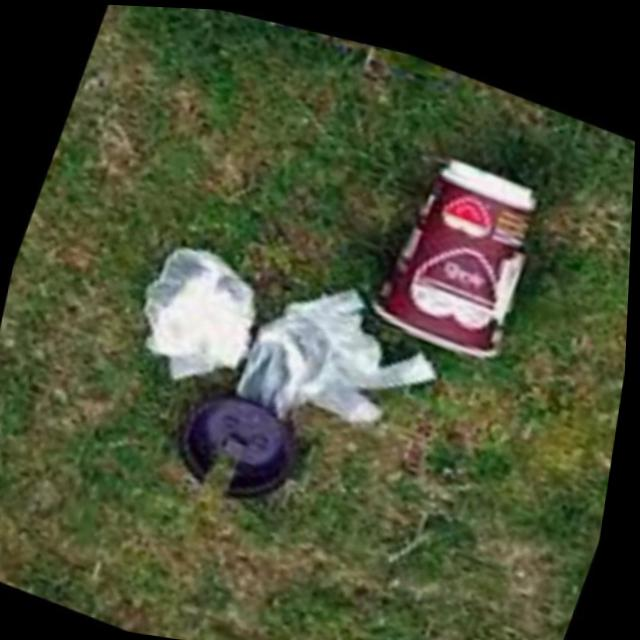leaf: (146, 360, 325, 528)
metal: (230, 249, 467, 443), (105, 206, 275, 416)
trash: (350, 109, 582, 381)
